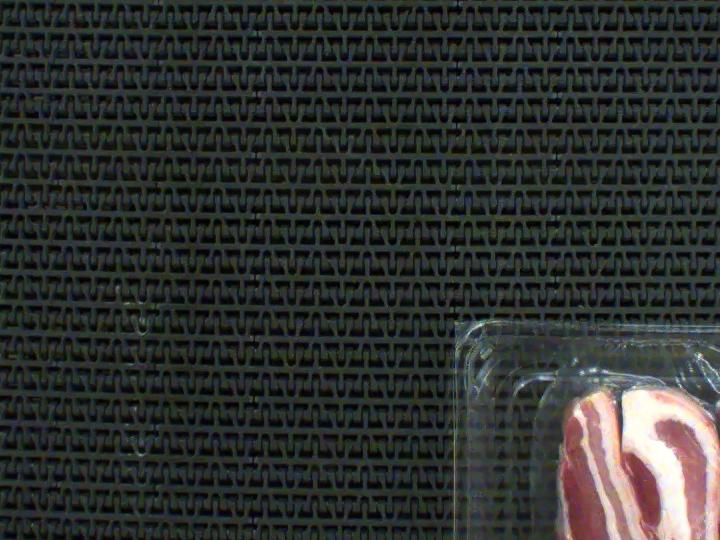unsealed: (513, 336, 720, 540)
